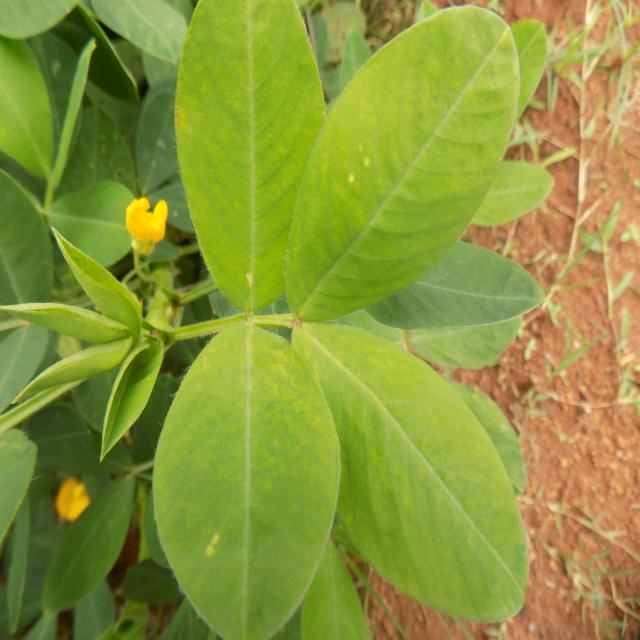Ground nut_healthy: (276, 314, 536, 624), (283, 0, 518, 328), (154, 315, 341, 637), (179, 4, 323, 315)
